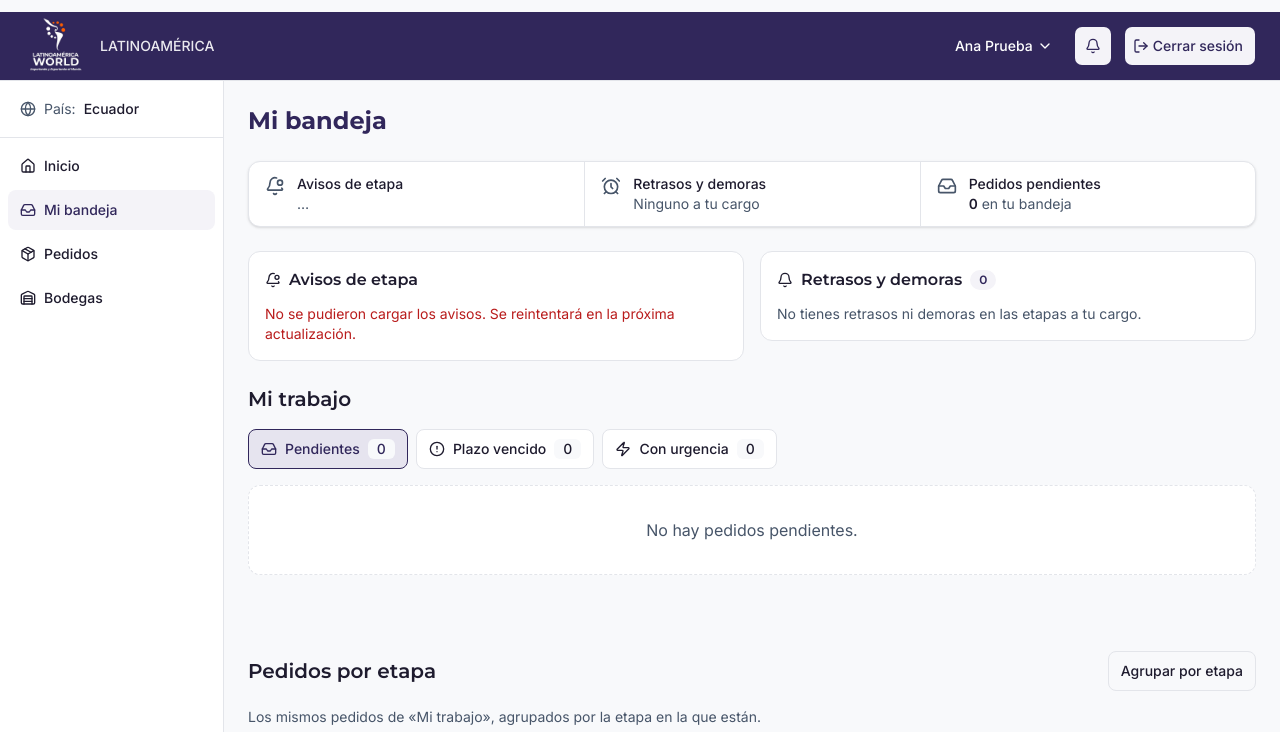
it: Avisos ADR-0032: campana y bandeja con API MSW › errores de consulta visibles en bandeja y menú
This screenshot has width=1280, height=732.
Expected: the text "No se pudieron cargar los avisos. Se reintentará" is shown, [265, 305, 675, 342]
Click the button named "Notificaciones:" at (1093, 46), box [1074, 26, 1112, 66]
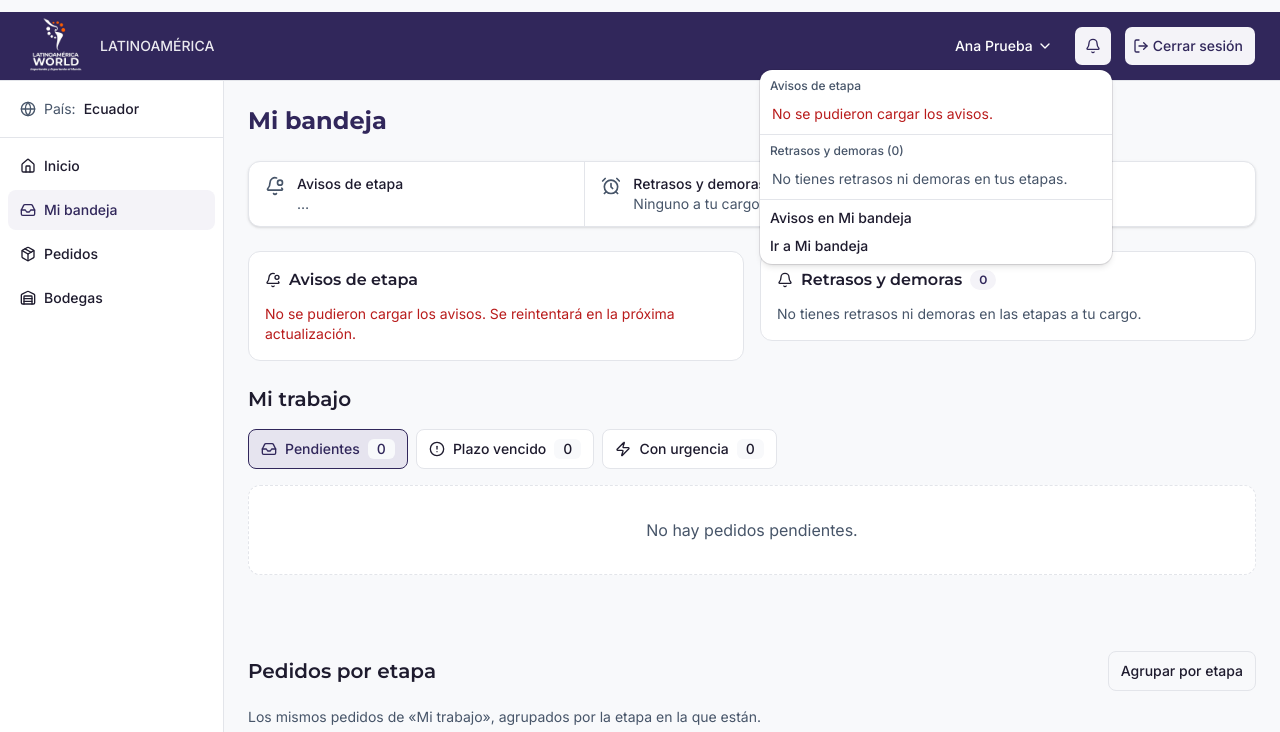
Result: the text "No se pudieron cargar los avisos." is shown at [772, 105, 993, 122]
